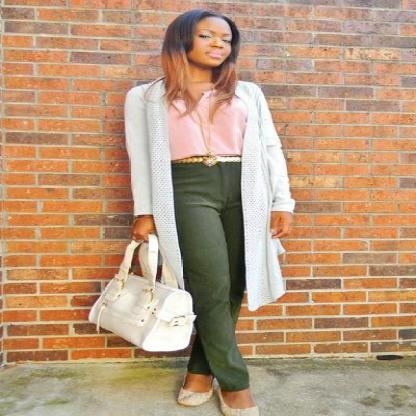bag: (70, 240, 195, 351)
jacket: (125, 81, 294, 307)
pants: (171, 160, 261, 390)
shirt: (159, 92, 248, 158)
shoe: (178, 388, 258, 416)
